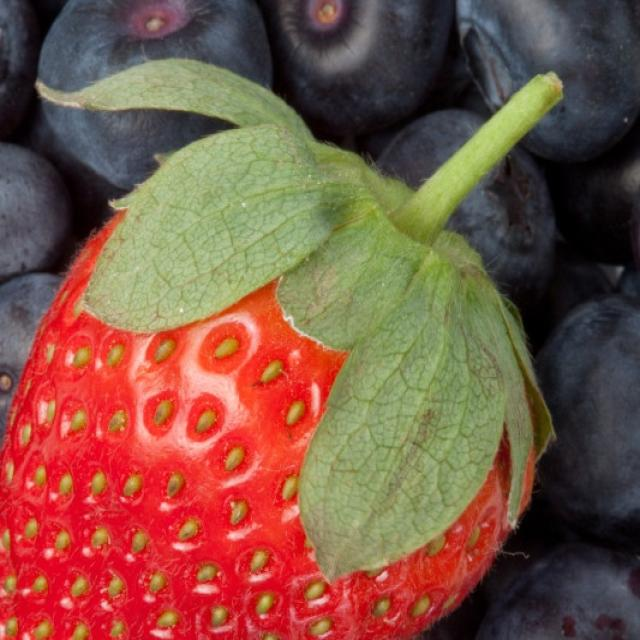strawberry: (0, 62, 572, 640)
